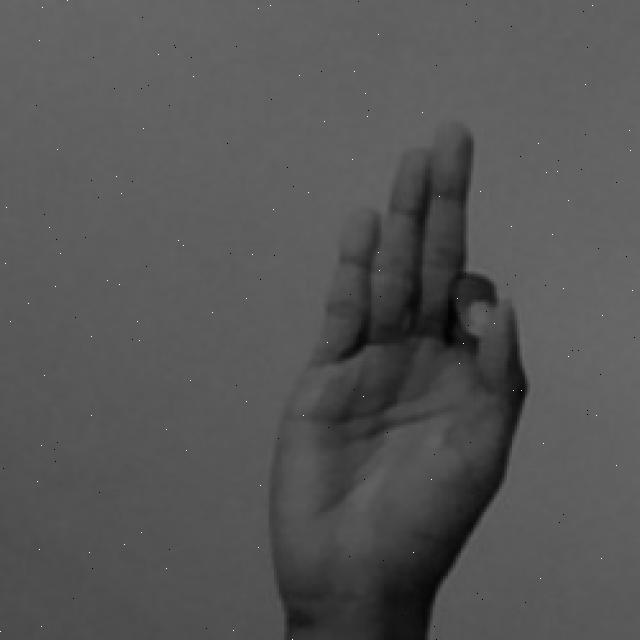F: (269, 118, 540, 640)
